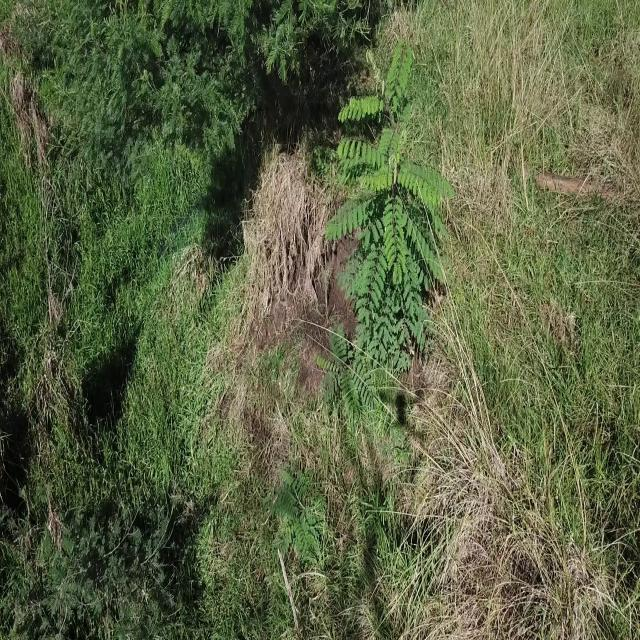Mysore-Thorn-Weed: (328, 32, 455, 362), (262, 444, 336, 572), (305, 320, 391, 413)
